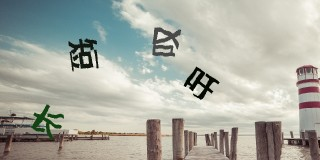叹: (152, 26, 182, 56)
吁: (183, 66, 220, 101)
短: (69, 37, 100, 72)
长: (32, 104, 64, 141)
